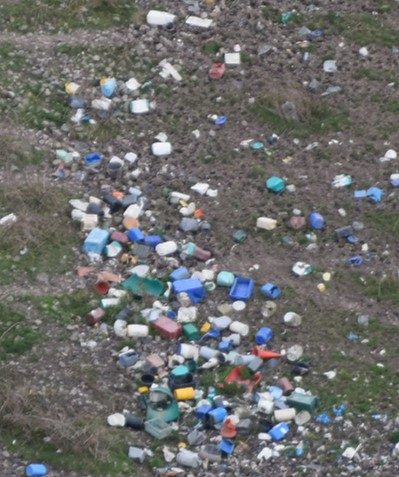scattered_barrel: (233, 123, 399, 285), (256, 1, 380, 101), (139, 3, 255, 88)
together_barrel: (48, 57, 337, 477)
white_in_green: (317, 424, 383, 477)
